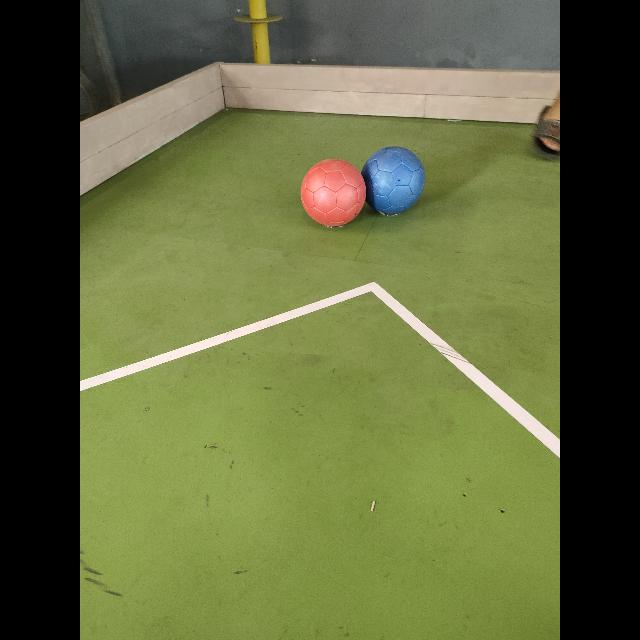B: (362, 146, 425, 215)
R: (300, 159, 366, 228)
